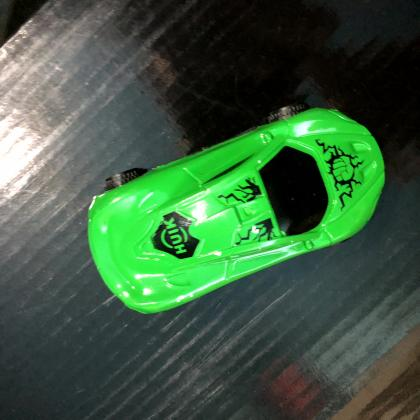Car: (88, 108, 385, 315)
